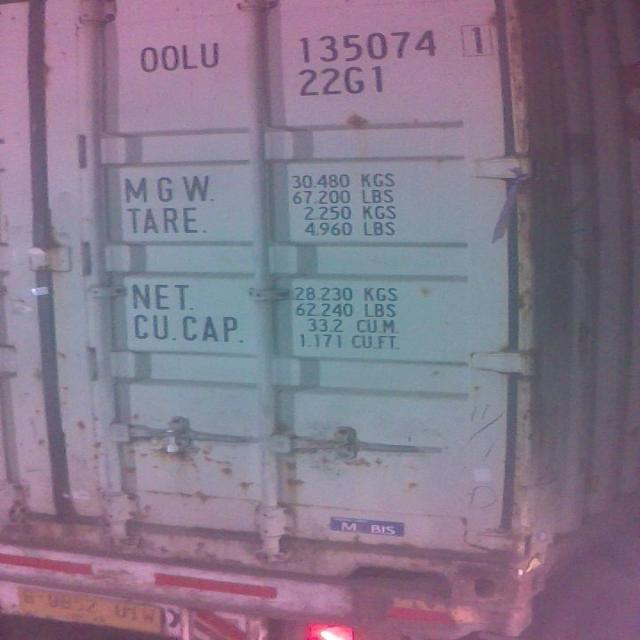seal: (156, 423, 192, 454)
